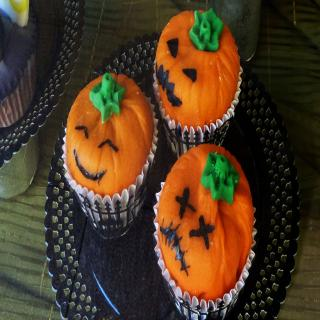Muffin: (152, 142, 256, 320), (61, 70, 159, 238), (154, 5, 242, 160), (0, 0, 39, 127)
